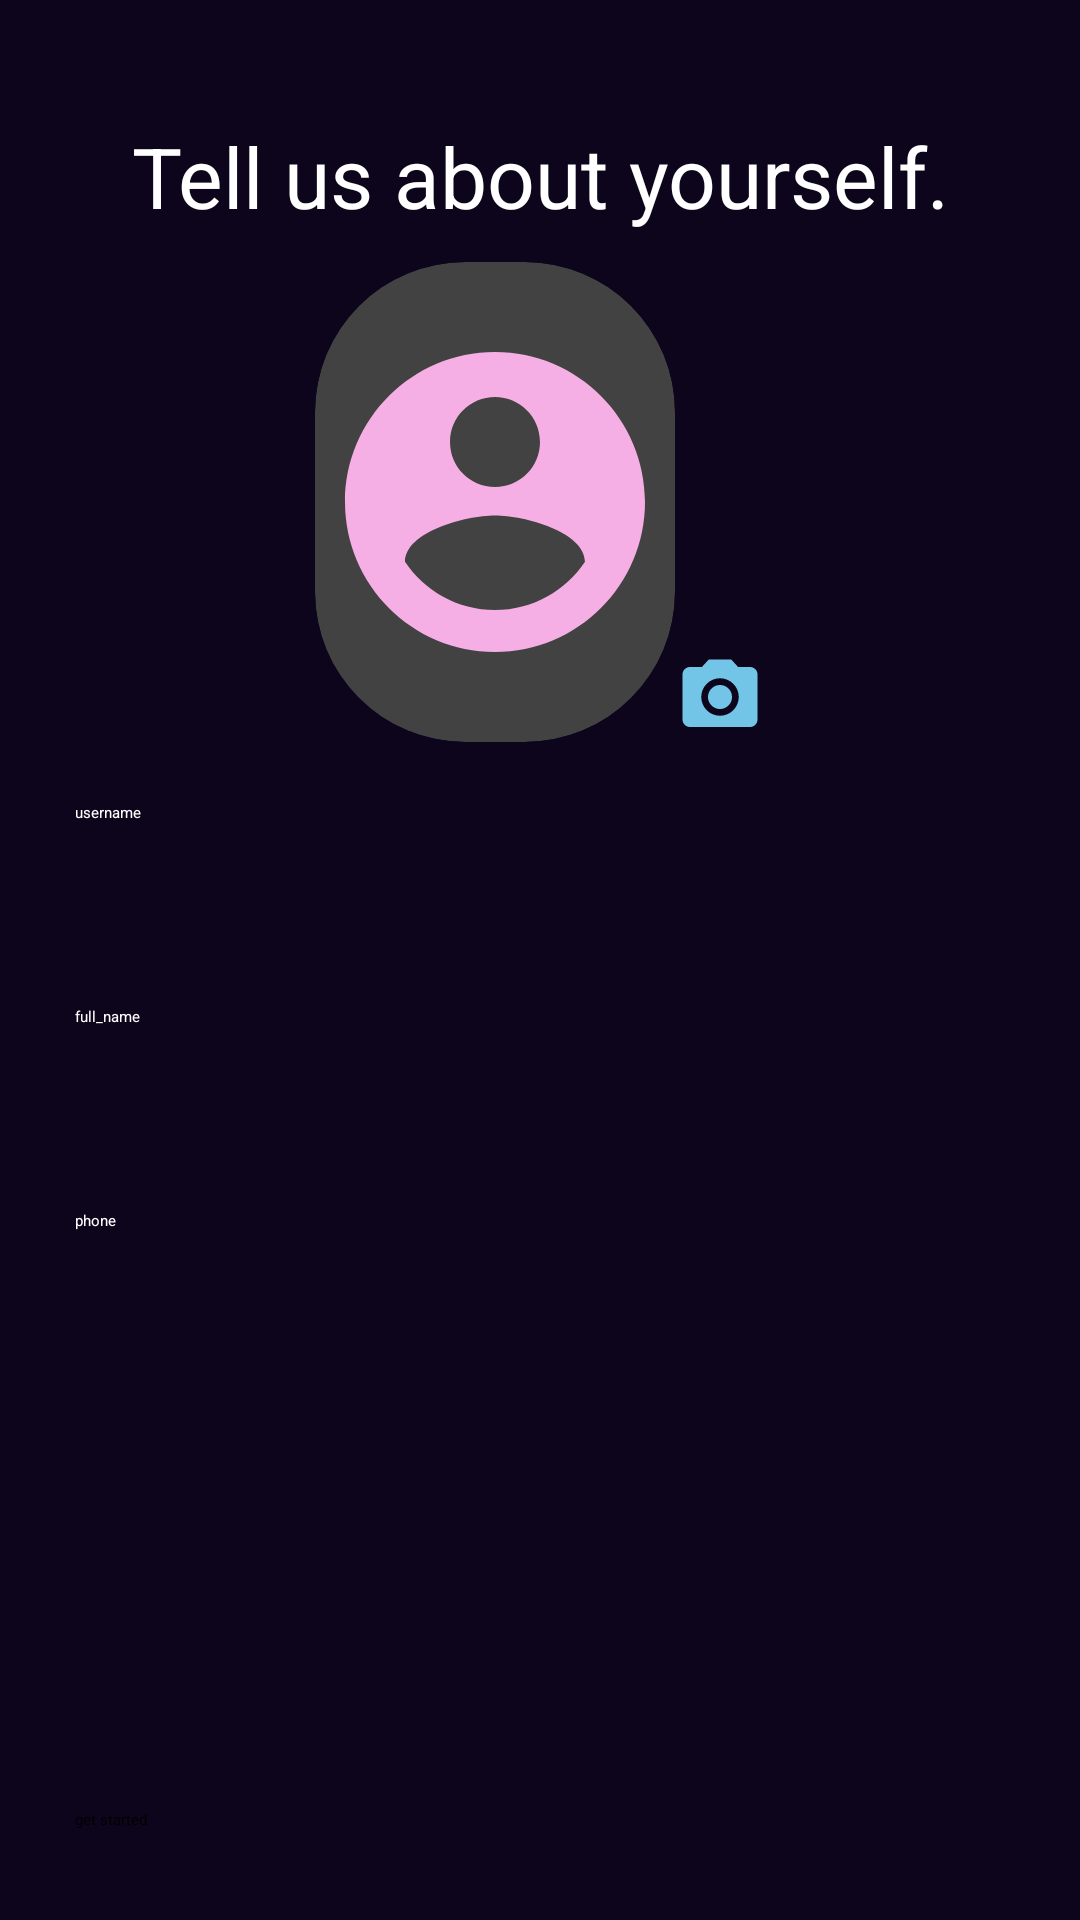

Screen size 1080px×1920px. Icon name, then its box in pixels as (x1, y1, x2, y2):
camera: (682, 659, 758, 727)
